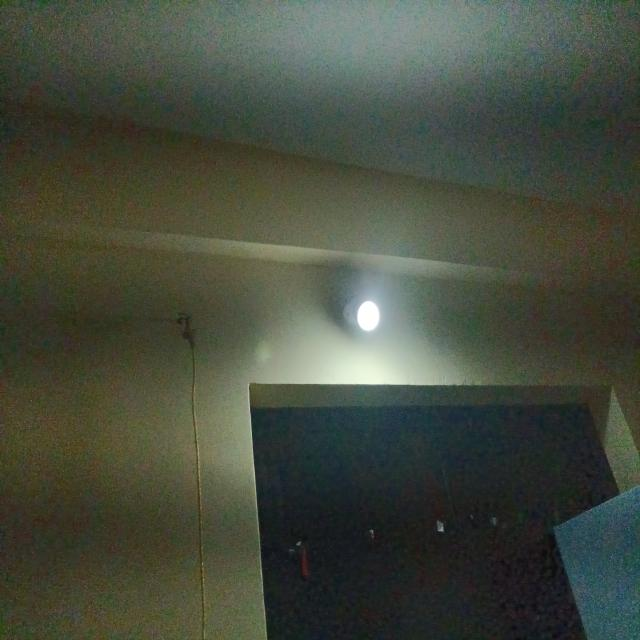bulb_on: (355, 299, 381, 333)
